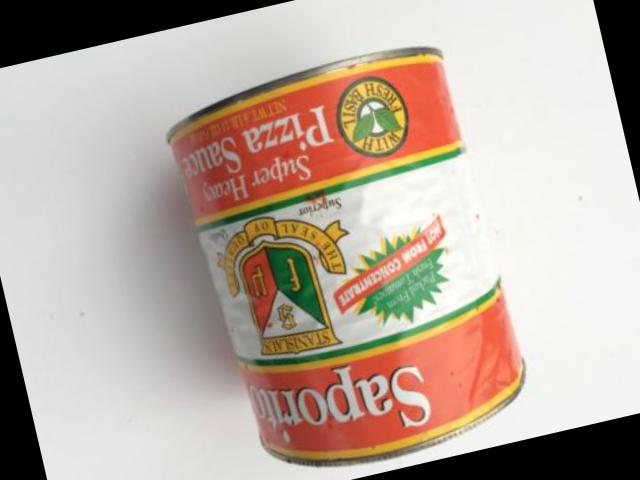metal: (171, 51, 525, 465)
